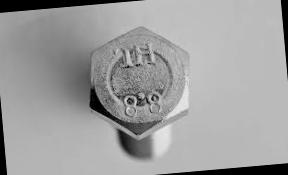hexagonal: (83, 22, 196, 144)
